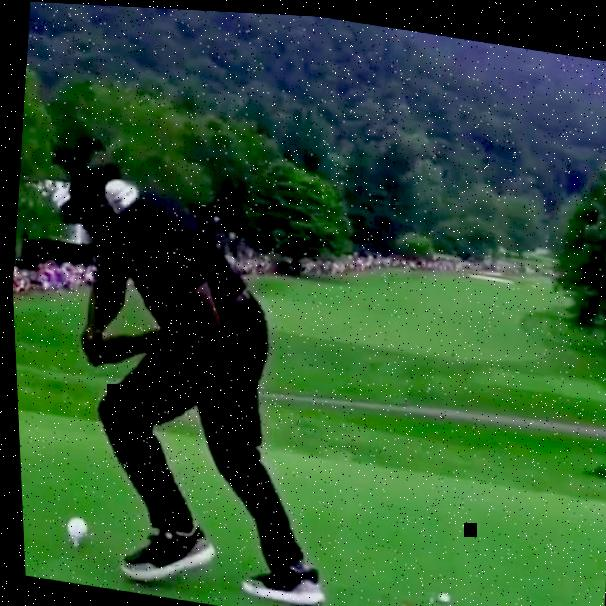ClubHead: (100, 177, 137, 217)
GolfBall: (431, 588, 445, 599)
